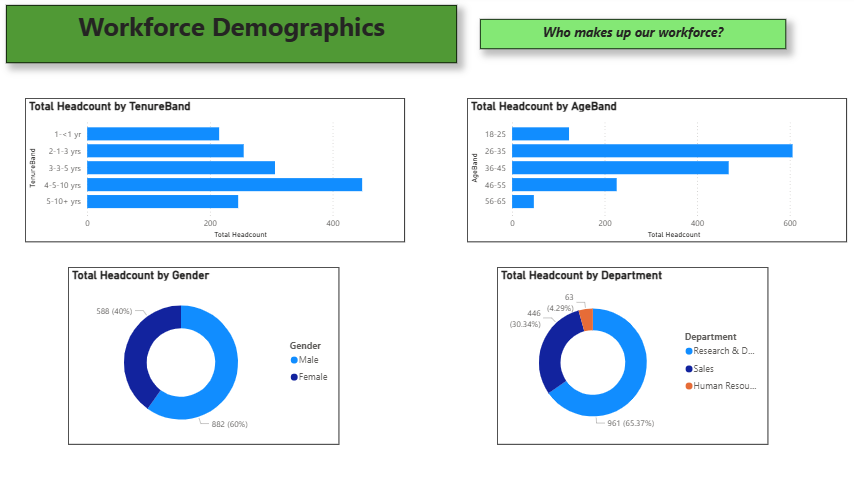

This screenshot's page, from the dashboard's own definition file:
{"tool":"powerbi","page":{"name":"Demographics","canvas":[1280,720],"ordinal":3},"visuals":[{"type":"textbox","box":[11.7,13.2,660,84.9],"z":0},{"type":"textbox","box":[705.4,33.7,447.8,43.9],"z":1000},{"type":"donutChart","fields":{"Category":["hr_attrition_cleaned.Gender"],"Y":["hr_attrition_cleaned.Total Headcount"]},"box":[102.4,396.6,396.6,260.5],"z":2000},{"type":"donutChart","fields":{"Category":["hr_attrition_cleaned.Department"],"Y":["hr_attrition_cleaned.Total Headcount"]},"box":[730.2,396.6,396.6,260.5],"z":3000},{"type":"barChart","fields":{"Category":["hr_attrition_cleaned.AgeBand"],"Y":["hr_attrition_cleaned.Total Headcount"]},"box":[686.3,149.3,556.1,210.7],"z":4000},{"type":"barChart","fields":{"Category":["hr_attrition_cleaned.TenureBand"],"Y":["hr_attrition_cleaned.Total Headcount"]},"box":[39.5,149.3,556.1,210.7],"z":5000}]}

Visuals, with their boxes in screenshot pixels (x1, y1, x2, y2), scaled from the page's 1280x720 canvas onto the 854x481 screenshot:
textbox: left=8, top=9, right=448, bottom=66
textbox: left=471, top=23, right=769, bottom=52
donutChart - hr_attrition_cleaned.Gender x hr_attrition_cleaned.Total Headcount: left=68, top=265, right=333, bottom=439
donutChart - hr_attrition_cleaned.Department x hr_attrition_cleaned.Total Headcount: left=487, top=265, right=752, bottom=439
barChart - hr_attrition_cleaned.AgeBand x hr_attrition_cleaned.Total Headcount: left=458, top=100, right=829, bottom=240
barChart - hr_attrition_cleaned.TenureBand x hr_attrition_cleaned.Total Headcount: left=26, top=100, right=397, bottom=240
